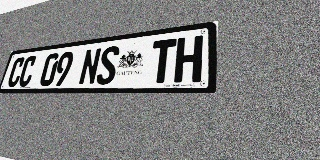0: (38, 53, 60, 86)
9: (52, 51, 75, 86)
C: (17, 55, 38, 87), (6, 57, 26, 87)
H: (174, 35, 203, 83)
N: (78, 47, 102, 85)
S: (95, 45, 121, 85)
T: (148, 38, 177, 83)
